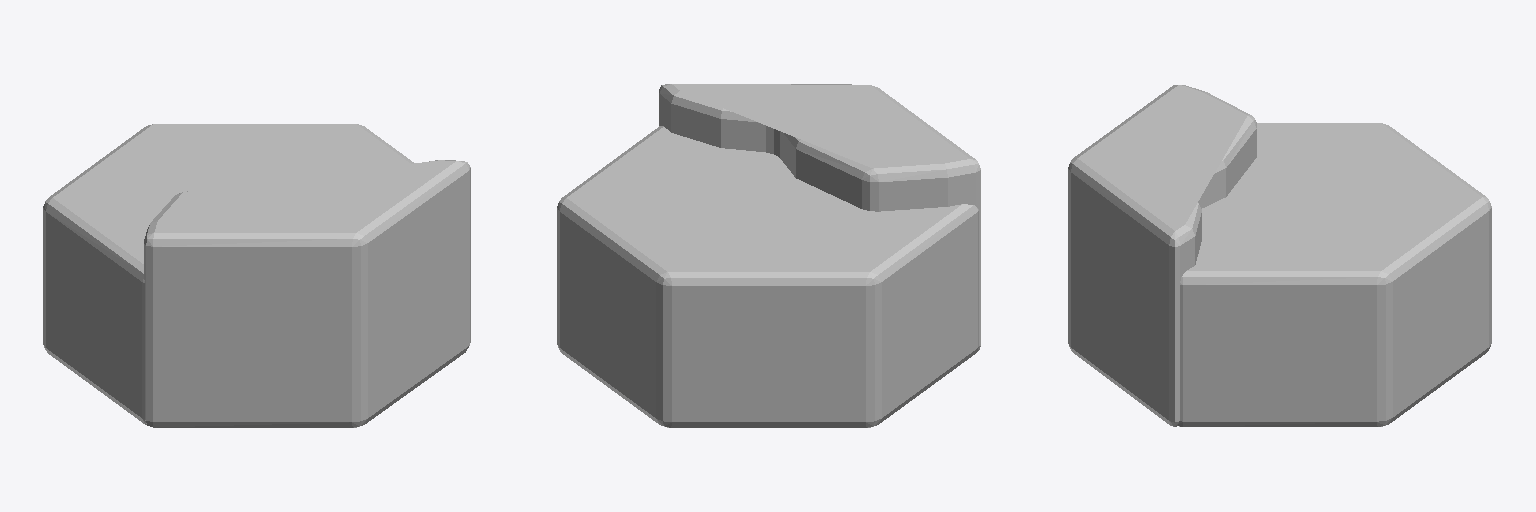
The model's file is grass_water3.obj.
The picture shows the model from 3 angles: view 1: azimuth 30°, elevation 25°; view 2: azimuth 150°, elevation 25°; view 3: azimuth 270°, elevation 25°; orthographic projection.
Visible parts, largest first — view 1: grass_water3; view 2: grass_water3; view 3: grass_water3.
Boxes of the visible parts, x1,y1,x2,y2 form: grass_water3: [43, 124, 470, 427]; grass_water3: [557, 84, 980, 427]; grass_water3: [1068, 85, 1491, 426].
Size of the model in its own units: 6.97 by 4 by 7.9.